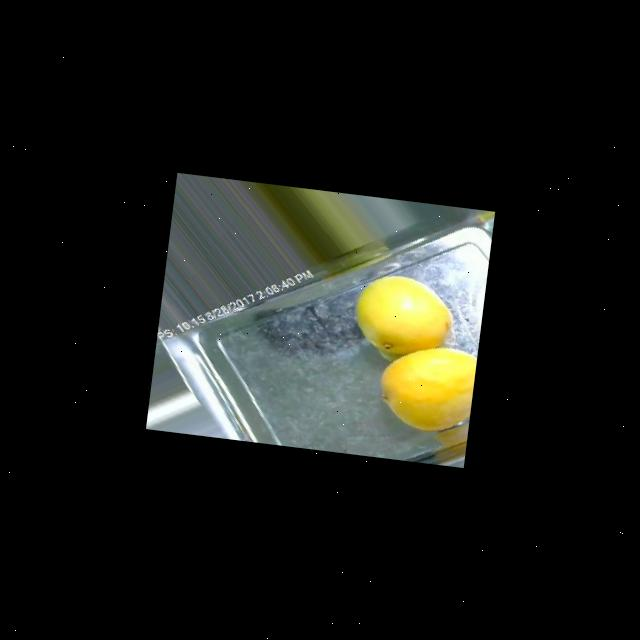Mango: (349, 270, 457, 366), (374, 339, 476, 436)
